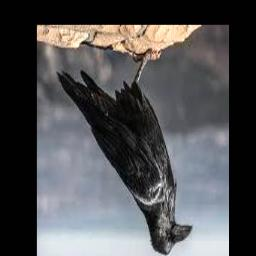Crow: (56, 49, 192, 256)
